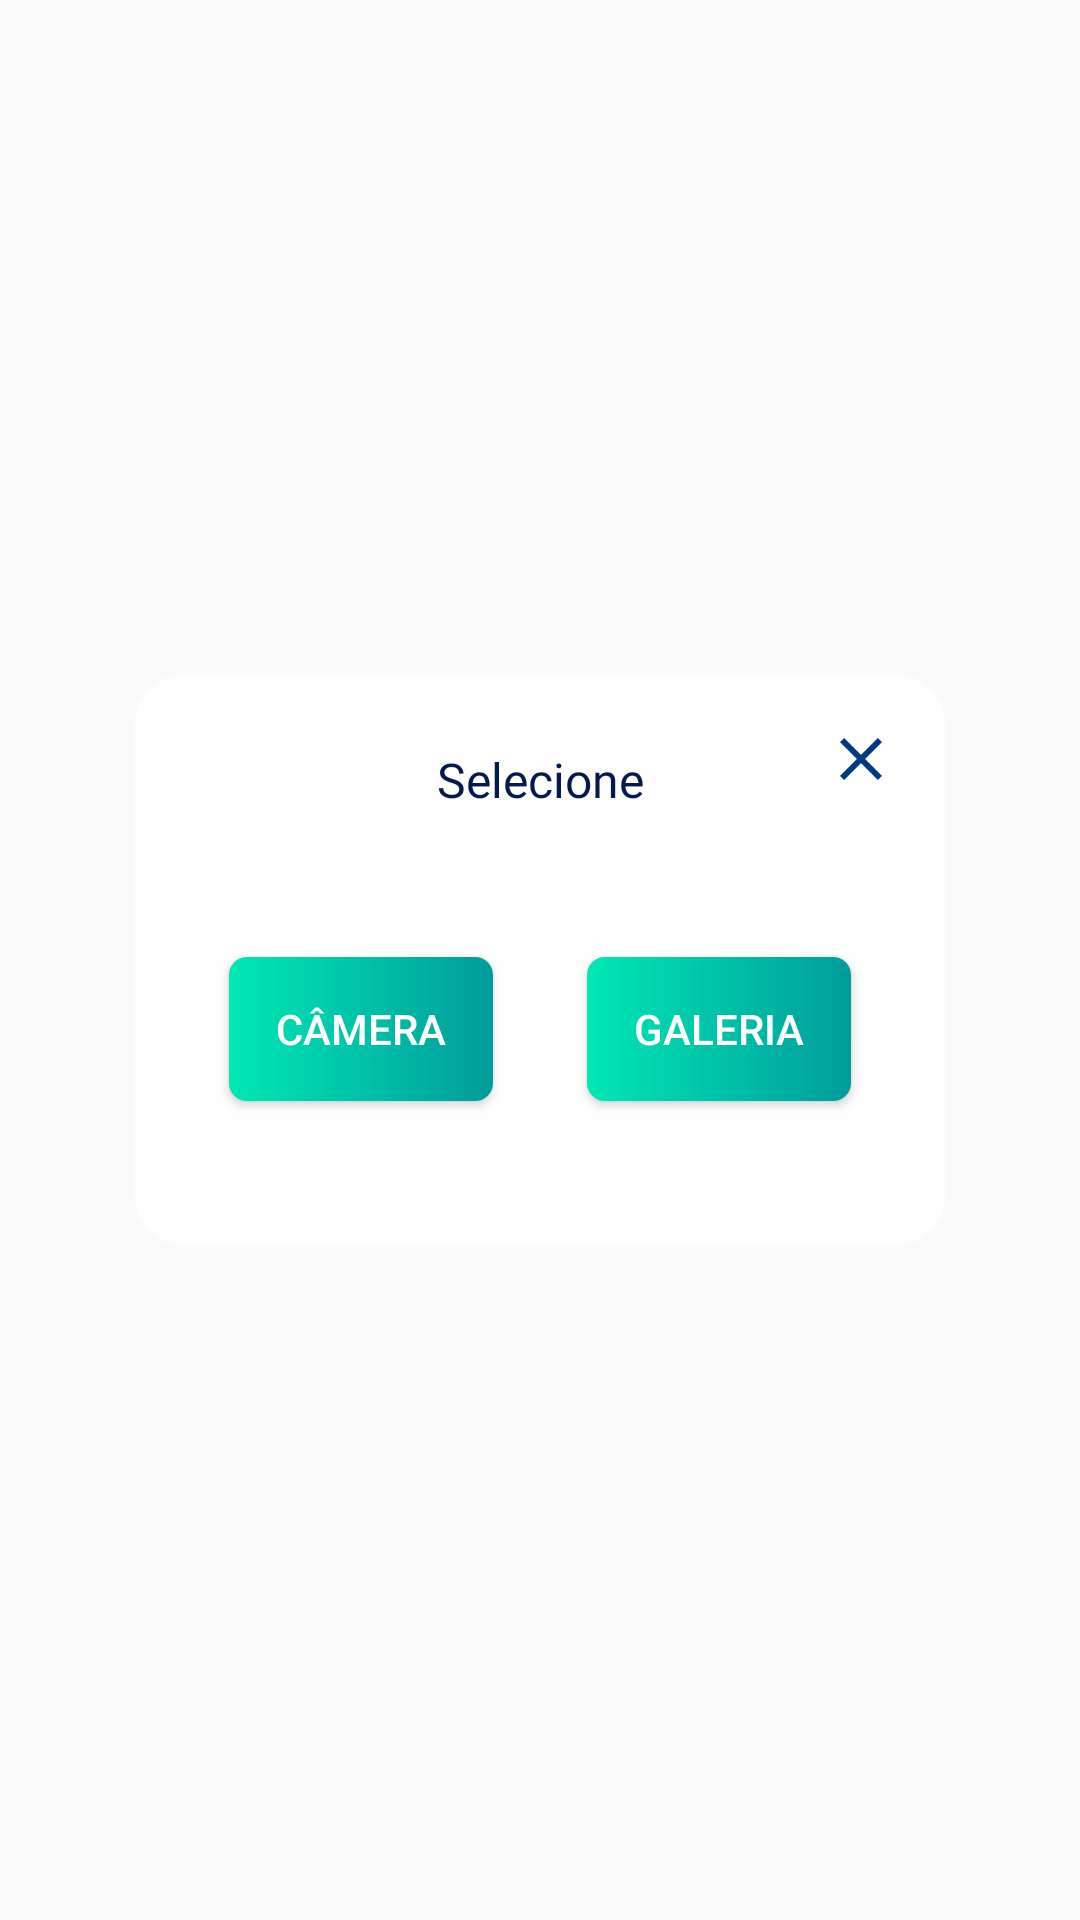

Named icons in this screenshot (1080 x 1920) and their centers, [x,y]:
close: [861,759]
